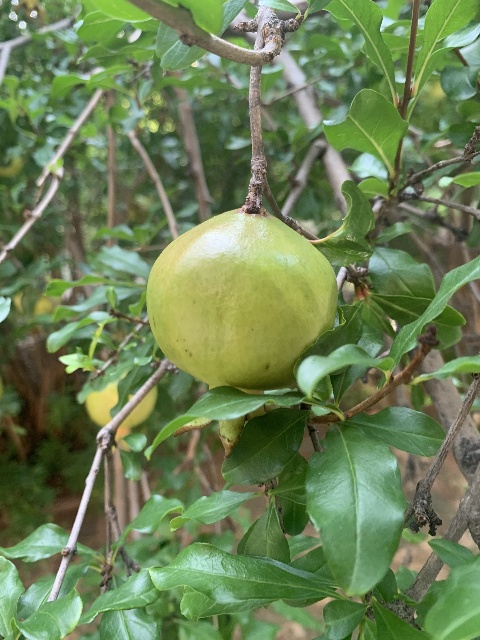mid-growth: (145, 210, 340, 458), (85, 380, 157, 453)
